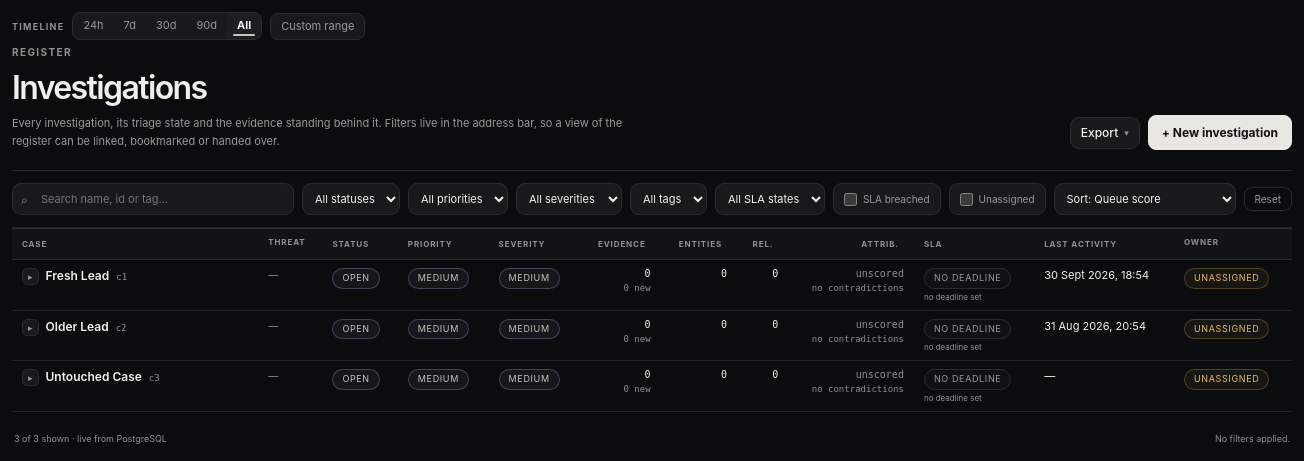
Test: the investigations register under a window › narrows by last activity and states the window, both counts and the basis
Check: the link "Fresh Lead" is shown, box [46, 268, 109, 283]
Click the radio button labelled "7d" at coordinates (130, 26), box [114, 13, 146, 39]
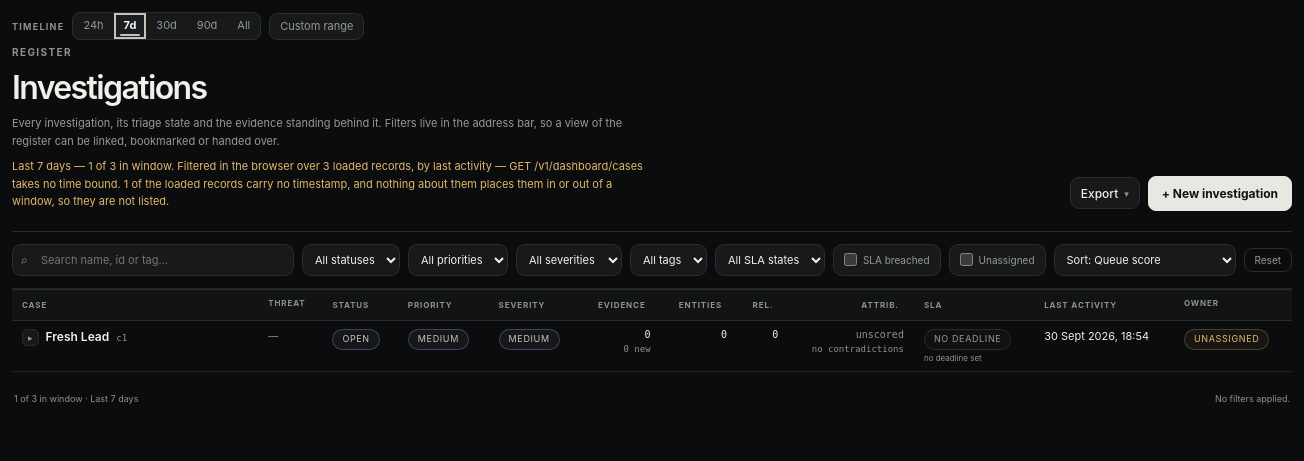
Check: the link "Older Lead" is gone
Check: the text with test id "tr-notice" shows "Last 7 days — 1 of 3 in window.", box [12, 159, 643, 208]
Check: the text with test id "tr-notice" shows "in the browser over 3 loaded records", box [12, 159, 643, 208]
